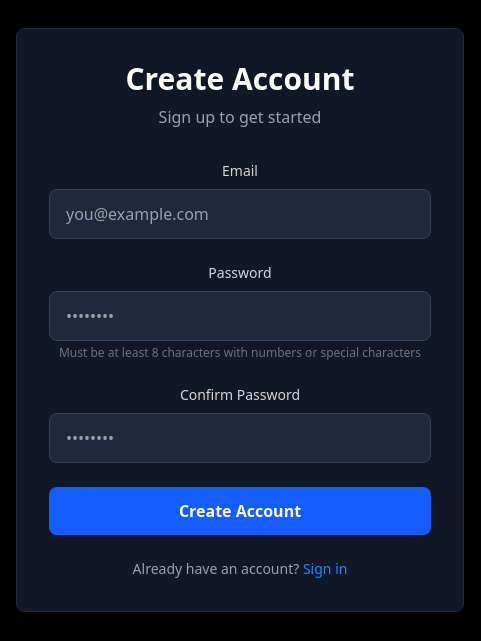
Test: Register Component › Password Validation › shows error for password with only numbers on form submission
In the field labelled "Email": x=240, y=214 [49, 189, 431, 239], type "test@example.com"
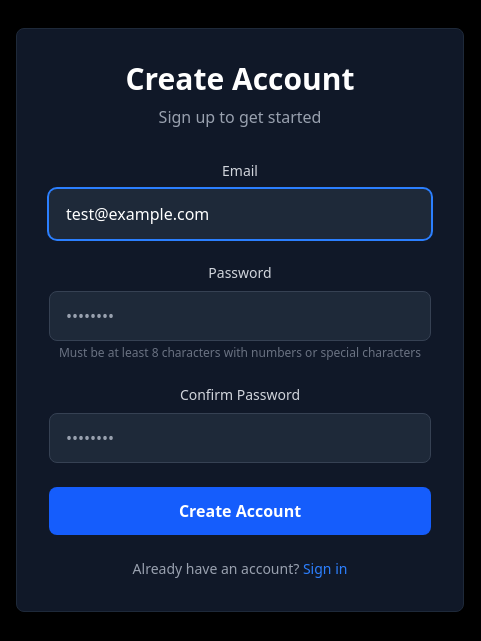
In the password field labelled "Password": x=240, y=316 [49, 291, 431, 341], type "12345678"
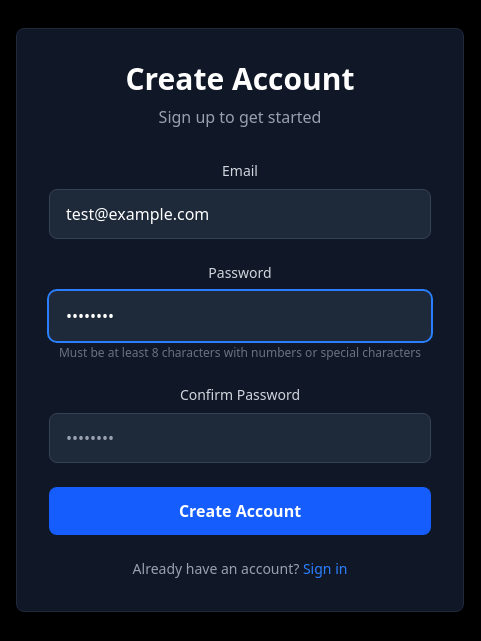
In the password field labelled "Confirm Password": x=240, y=438 [49, 413, 431, 463], type "12345678"
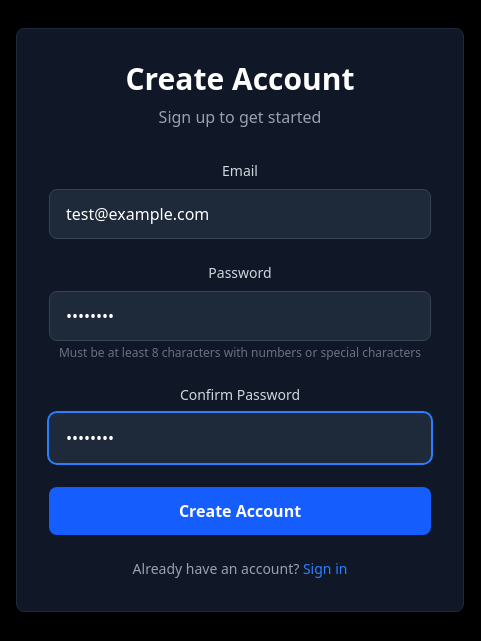
Click the button "Create Account": x=240, y=511 [49, 487, 431, 535]
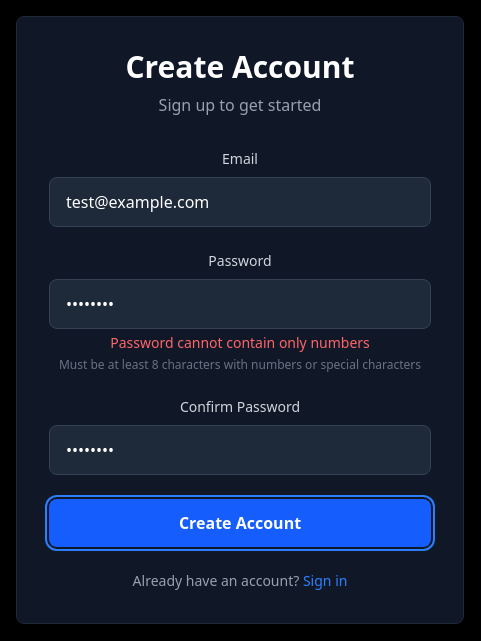
Check: the text "Password cannot contain only numbers" is shown, box [110, 333, 370, 352]
